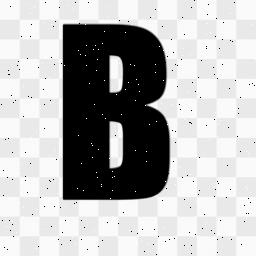b: (48, 18, 188, 218)
